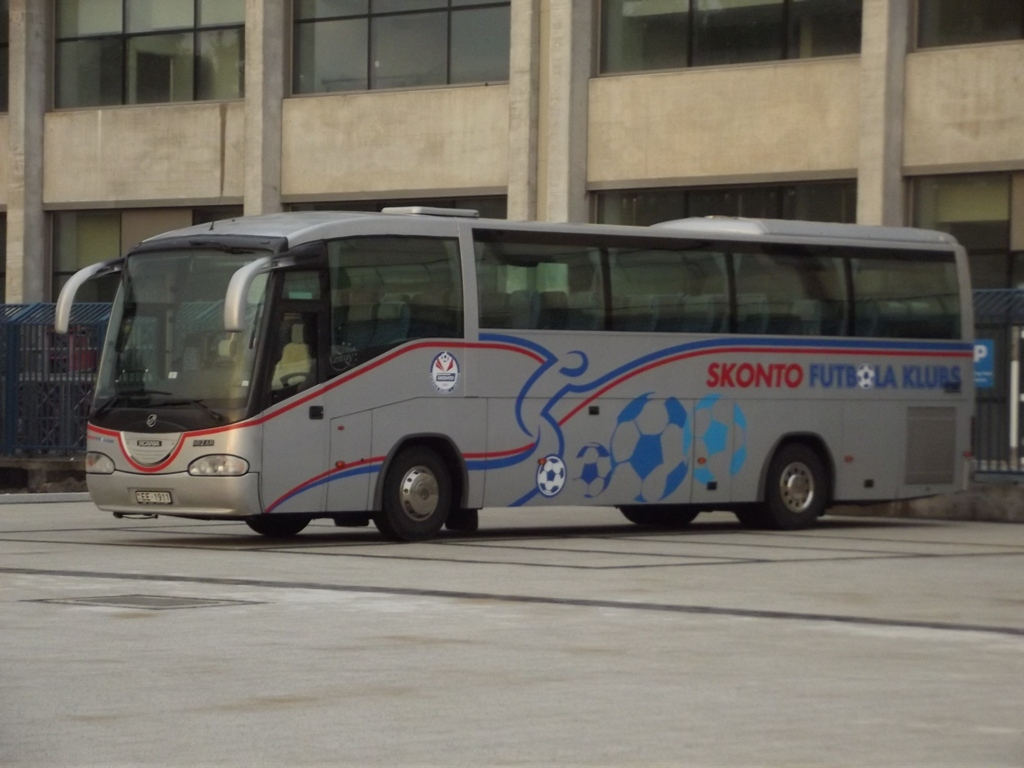Bus: (49, 192, 974, 543)
